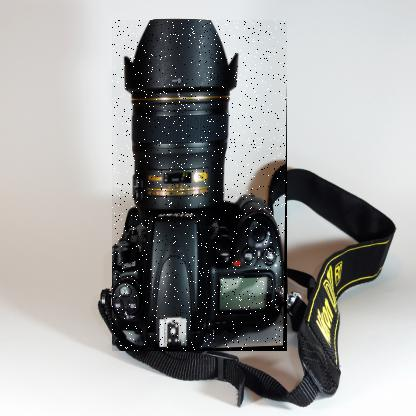Camera: (113, 21, 289, 353)
